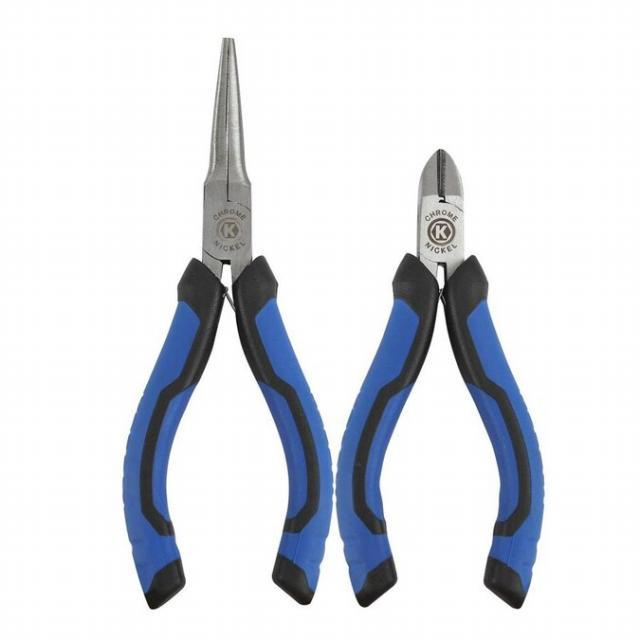pliers: (115, 31, 332, 614), (332, 144, 552, 612)
